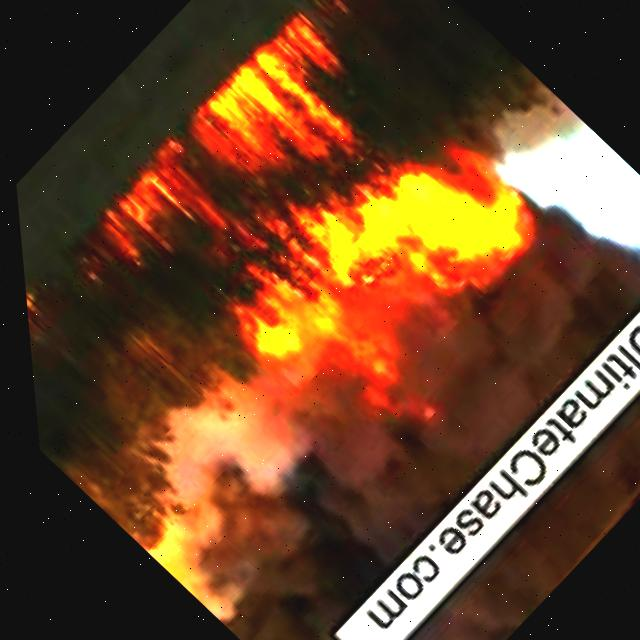Fire: (164, 71, 581, 458), (64, 0, 435, 336), (20, 285, 52, 365)
Smoke: (145, 178, 640, 640), (287, 311, 640, 640)
